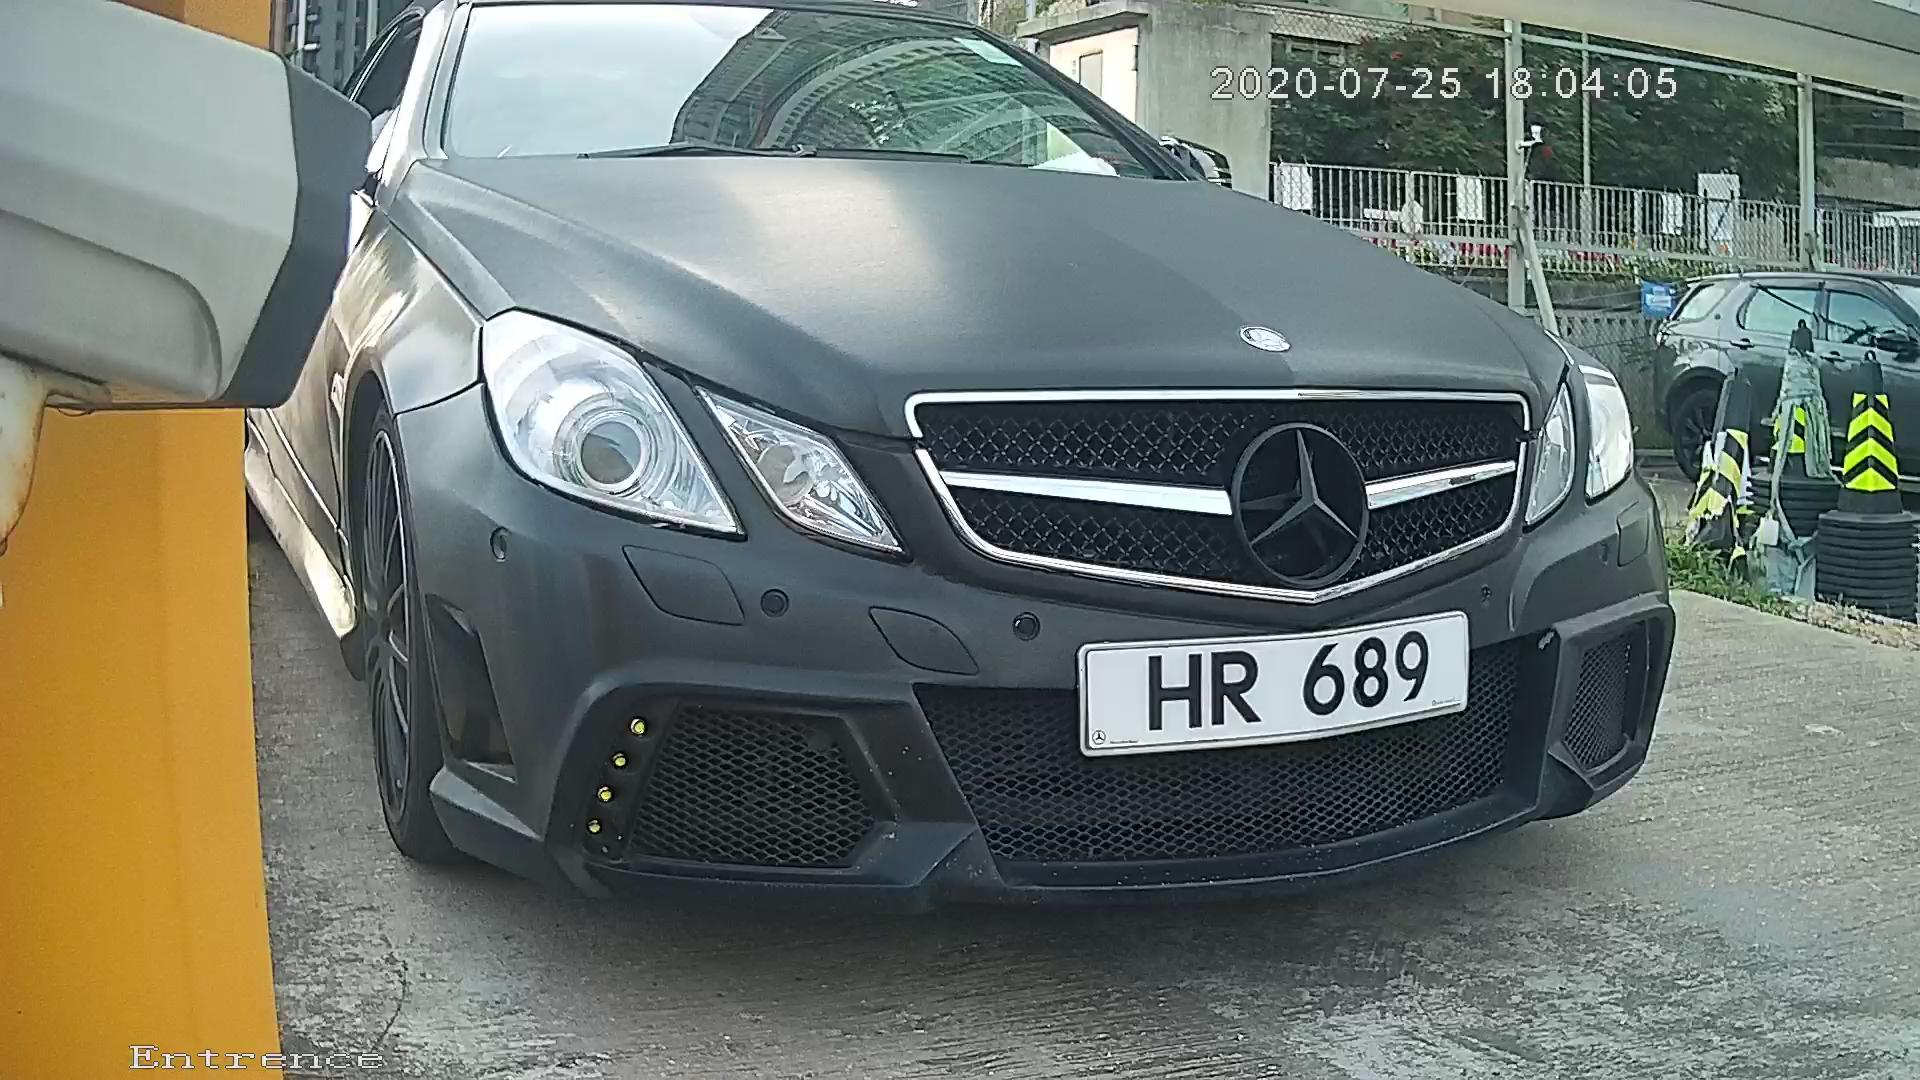Car: (181, 1, 1809, 970)
License Plate: (1063, 598, 1483, 762)
